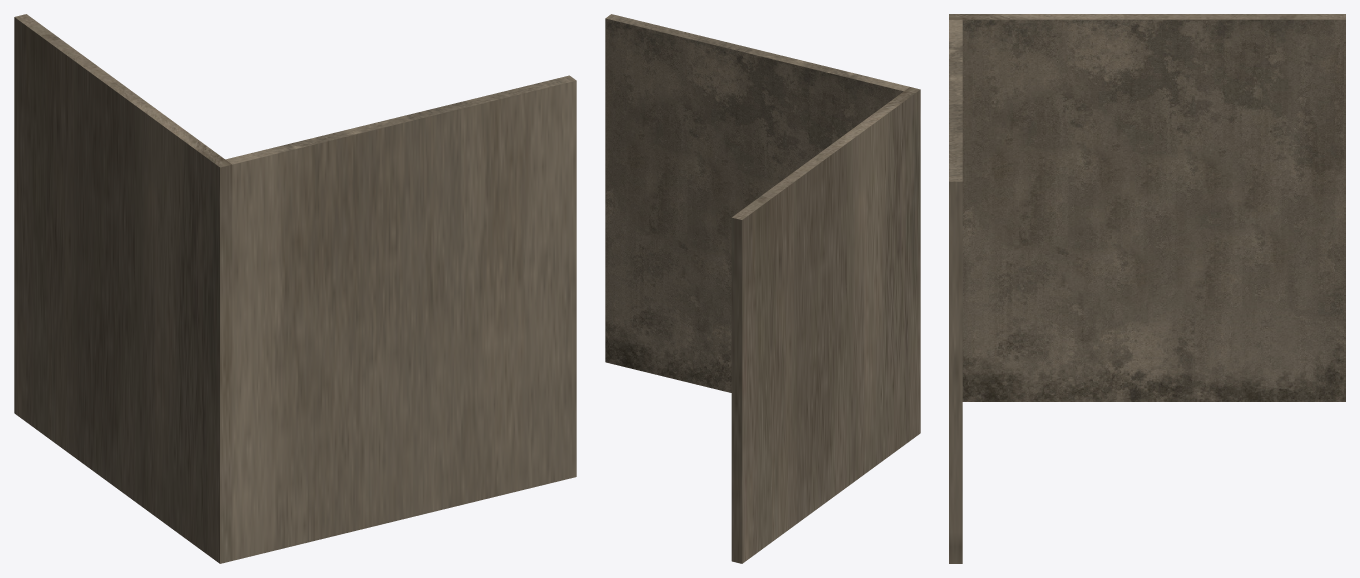
The model's file is SM_BunkerWall_Corner.glb.
3 renders of one model, left to right at view 1: azimuth 30°, elevation 25°; view 2: azimuth 150°, elevation 25°; view 3: azimuth 270°, elevation 25°, orthographic. The views are drawn at different scales.
Parts seen in each view (by area): view 1: Bunker_Wall.003; view 2: Bunker_Wall.003; view 3: Bunker_Wall.003.
Boxes of the visible parts, x1,y1,x2,y2 form: Bunker_Wall.003: (14, 14, 576, 563); Bunker_Wall.003: (605, 14, 920, 563); Bunker_Wall.003: (949, 14, 1345, 563).
Bounding box in the file's own units: 2.07 × 2.2 × 2.07.
1 material, 1 textured.
